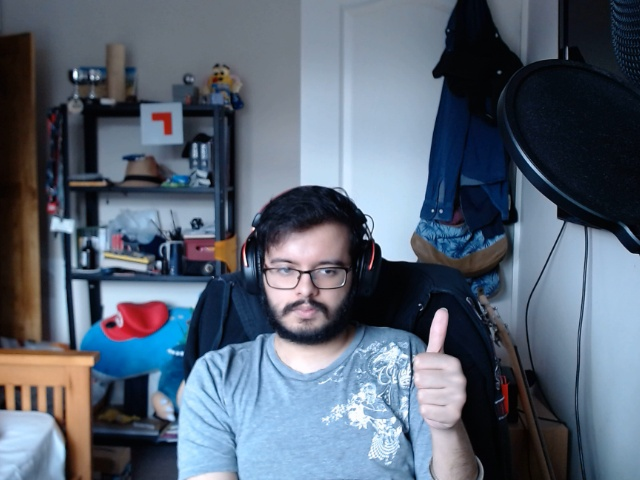Thumbs up: (409, 303, 476, 436)
